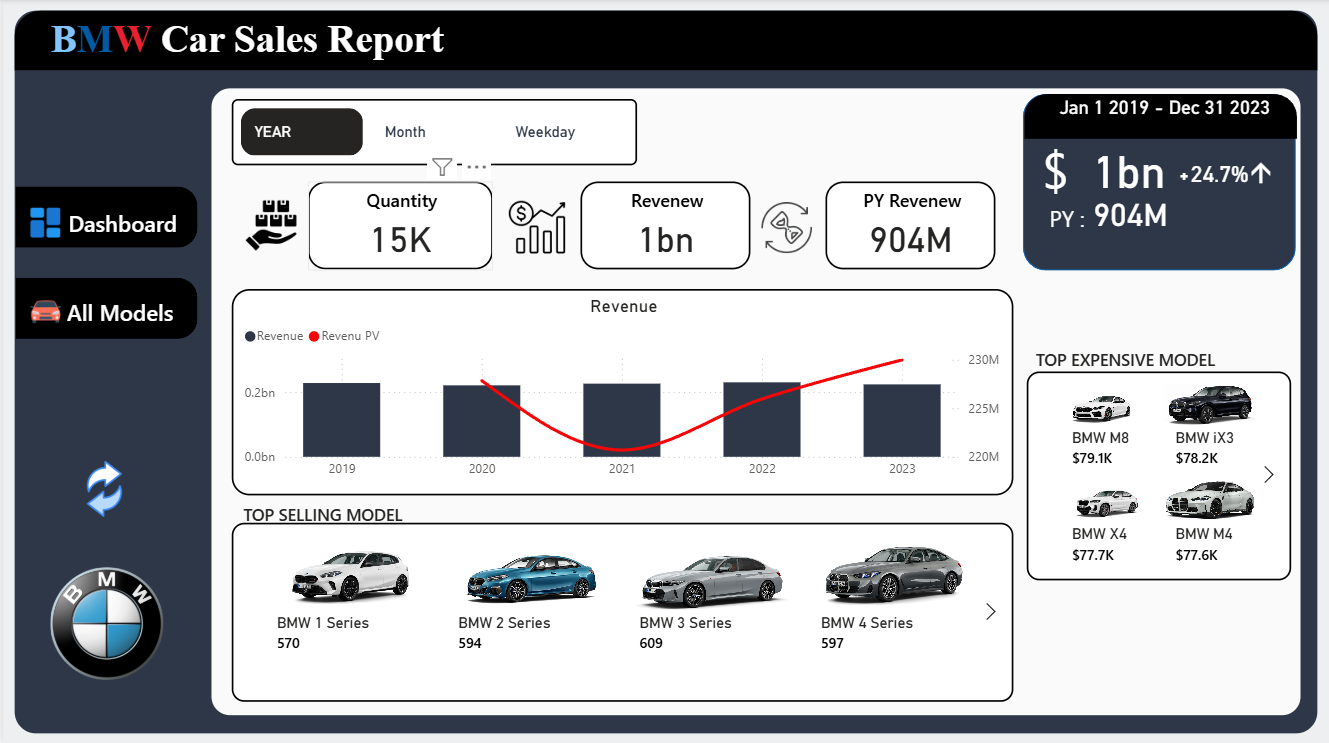

This screenshot's page, from the dashboard's own definition file:
{"tool":"powerbi","page":{"name":"Page 1","canvas":[1280,720],"ordinal":0},"visuals":[{"type":"textbox","box":[41,12.1,716.6,72.4],"z":0},{"type":"group","id":"g1","title":"Group 1","box":[984,91.4,263.9,170.4],"z":0,"group":"g5"},{"type":"shape","box":[984,91.4,263.3,170.4],"z":0,"group":"g1"},{"type":"card","fields":{"Values":["All Measure.Revenue"]},"box":[1023.5,128.5,127.1,69.5],"z":0,"group":"g2"},{"type":"card","fields":{"Values":["All Measure.Revenue_Variation"]},"box":[1101.8,129.3,156.7,80.1],"z":0,"group":"g4"},{"type":"textbox","box":[1004.8,191.7,71.4,42.6],"z":0,"group":"g3"},{"type":"shape","box":[11.4,268.9,175.6,59],"z":0,"group":"g7"},{"type":"card","fields":{"Values":["All Measure.Period"]},"box":[994.3,65.4,254.9,79.6],"z":1000,"group":"g4"},{"type":"shape","box":[984.6,91.5,263.3,43.5],"z":1000,"group":"g1"},{"type":"group","id":"g2","title":"Revenu","box":[997.8,127.2,151.9,75.8],"z":1000,"group":"g5"},{"type":"textbox","box":[997.8,127.2,53.8,76.6],"z":1000,"group":"g2"},{"type":"card","fields":{"Values":["All Measure.Revenu PV"]},"box":[979.5,160.4,216.9,91.4],"z":1000,"group":"g3"},{"type":"textbox","box":[56.7,282.6,130.4,49.4],"z":1000,"group":"g7"},{"type":"image","box":[41,528.4,118.2,149.6],"z":1000},{"type":"group","id":"g3","title":"card","box":[979.5,65.4,279,186.4],"z":2000,"group":"g5"},{"type":"group","id":"g4","title":"Group 2","box":[994.3,65.4,264.2,144],"z":2000,"group":"g3"},{"type":"lineStackedColumnComboChart","title":"Revenue","fields":{"Category":["Calender.YEAR"],"Y":["All Measure.Revenue"],"Y2":["All Measure.Revenu PV"]},"box":[221.2,279.7,754.1,199],"z":2000},{"type":"image","box":[11.4,282.6,57.6,39.8],"z":2000,"group":"g7"},{"type":"advancedSlicerVisual","fields":{"Values":["PeriodSlice.PeriodSlice"]},"box":[221.2,96,391,64],"z":3000},{"type":"actionButton","box":[6.8,279,177,49.4],"z":3000,"group":"g7"},{"type":"group","id":"g5","title":"Card","box":[979.5,65.4,279.7,196.2],"z":4000},{"type":"advancedSlicerVisual","fields":{"Values":["dimModel.Model"]},"box":[220.9,505,754.7,172.9],"z":5000},{"type":"card","title":"Quantity","fields":{"Values":["All Measure.Quantity"]},"box":[295,176.7,178.1,84.9],"z":6000},{"type":"shape","box":[12.5,180.8,175.6,59],"z":6000,"group":"g6"},{"type":"card","title":"PY Revenew","fields":{"Values":["All Measure.Revenu PV"]},"box":[794.4,176.7,164.2,84.9],"z":7000},{"type":"image","box":[12.5,195.9,57.6,38.4],"z":7000,"group":"g6"},{"type":"card","title":"Revenew","fields":{"Values":["All Measure.Revenue"]},"box":[557.9,176.7,164.2,84.9],"z":8000},{"type":"textbox","box":[57.8,195.9,130.4,49.4],"z":8000,"group":"g6"},{"type":"image","box":[681.7,190.6,148.9,59.8],"z":9000},{"type":"image","box":[190.6,187.8,136.3,61.2],"z":10000},{"type":"image","box":[482.8,187.8,65.4,64],"z":11000},{"type":"actionButton","box":[11.9,180.4,168.5,56.2],"z":11003,"group":"g6"},{"type":"advancedSlicerVisual","fields":{"Values":["dimModel.Model"]},"box":[988,359.5,255.2,201.7],"z":12000},{"type":"textbox","box":[226.4,481.6,190.7,46.7],"z":13000},{"type":"textbox","box":[992.1,332.1,190.7,46.7],"z":14000},{"type":"group","id":"g6","title":"Group 1","box":[11.9,180.4,175.3,64.7],"z":14002},{"type":"group","id":"g7","title":"Group 2","box":[6.8,268.9,178.7,64.7],"z":14003},{"type":"image","box":[54.5,440.9,86.8,64.7],"z":14004}]}

Visuals, with their boxes in screenshot pixels (x1, y1, x2, y2), scaled from the page's 1280x720 canvas onto the 1329x743 screenshot:
textbox: crop(43, 12, 787, 87)
"Group 1" group: crop(1022, 94, 1296, 270)
shape: crop(1022, 94, 1295, 270)
card - All Measure.Revenue: crop(1063, 133, 1195, 204)
card - All Measure.Revenue_Variation: crop(1144, 133, 1307, 216)
textbox: crop(1043, 198, 1117, 242)
shape: crop(12, 277, 194, 338)
card - All Measure.Period: crop(1032, 67, 1297, 150)
shape: crop(1022, 94, 1296, 139)
"Revenu" group: crop(1036, 131, 1194, 209)
textbox: crop(1036, 131, 1092, 210)
card - All Measure.Revenu PV: crop(1017, 166, 1242, 260)
textbox: crop(59, 292, 194, 343)
image: crop(43, 545, 165, 700)
"card" group: crop(1017, 67, 1307, 260)
"Group 2" group: crop(1032, 67, 1307, 216)
"Revenue" lineStackedColumnComboChart: crop(230, 289, 1013, 494)
image: crop(12, 292, 72, 333)
advancedSlicerVisual - PeriodSlice.PeriodSlice: crop(230, 99, 636, 165)
actionButton: crop(7, 288, 191, 339)
"Card" group: crop(1017, 67, 1307, 270)
advancedSlicerVisual - dimModel.Model: crop(229, 521, 1013, 700)
"Quantity" card: crop(306, 182, 491, 270)
shape: crop(13, 187, 195, 247)
"PY Revenew" card: crop(825, 182, 995, 270)
image: crop(13, 202, 73, 242)
"Revenew" card: crop(579, 182, 750, 270)
textbox: crop(60, 202, 195, 253)
image: crop(708, 197, 862, 258)
image: crop(198, 194, 339, 257)
image: crop(501, 194, 569, 260)
actionButton: crop(12, 186, 187, 244)
advancedSlicerVisual - dimModel.Model: crop(1026, 371, 1291, 579)
textbox: crop(235, 497, 433, 545)
textbox: crop(1030, 343, 1228, 391)
"Group 1" group: crop(12, 186, 194, 253)
"Group 2" group: crop(7, 277, 193, 344)
image: crop(57, 455, 147, 522)
